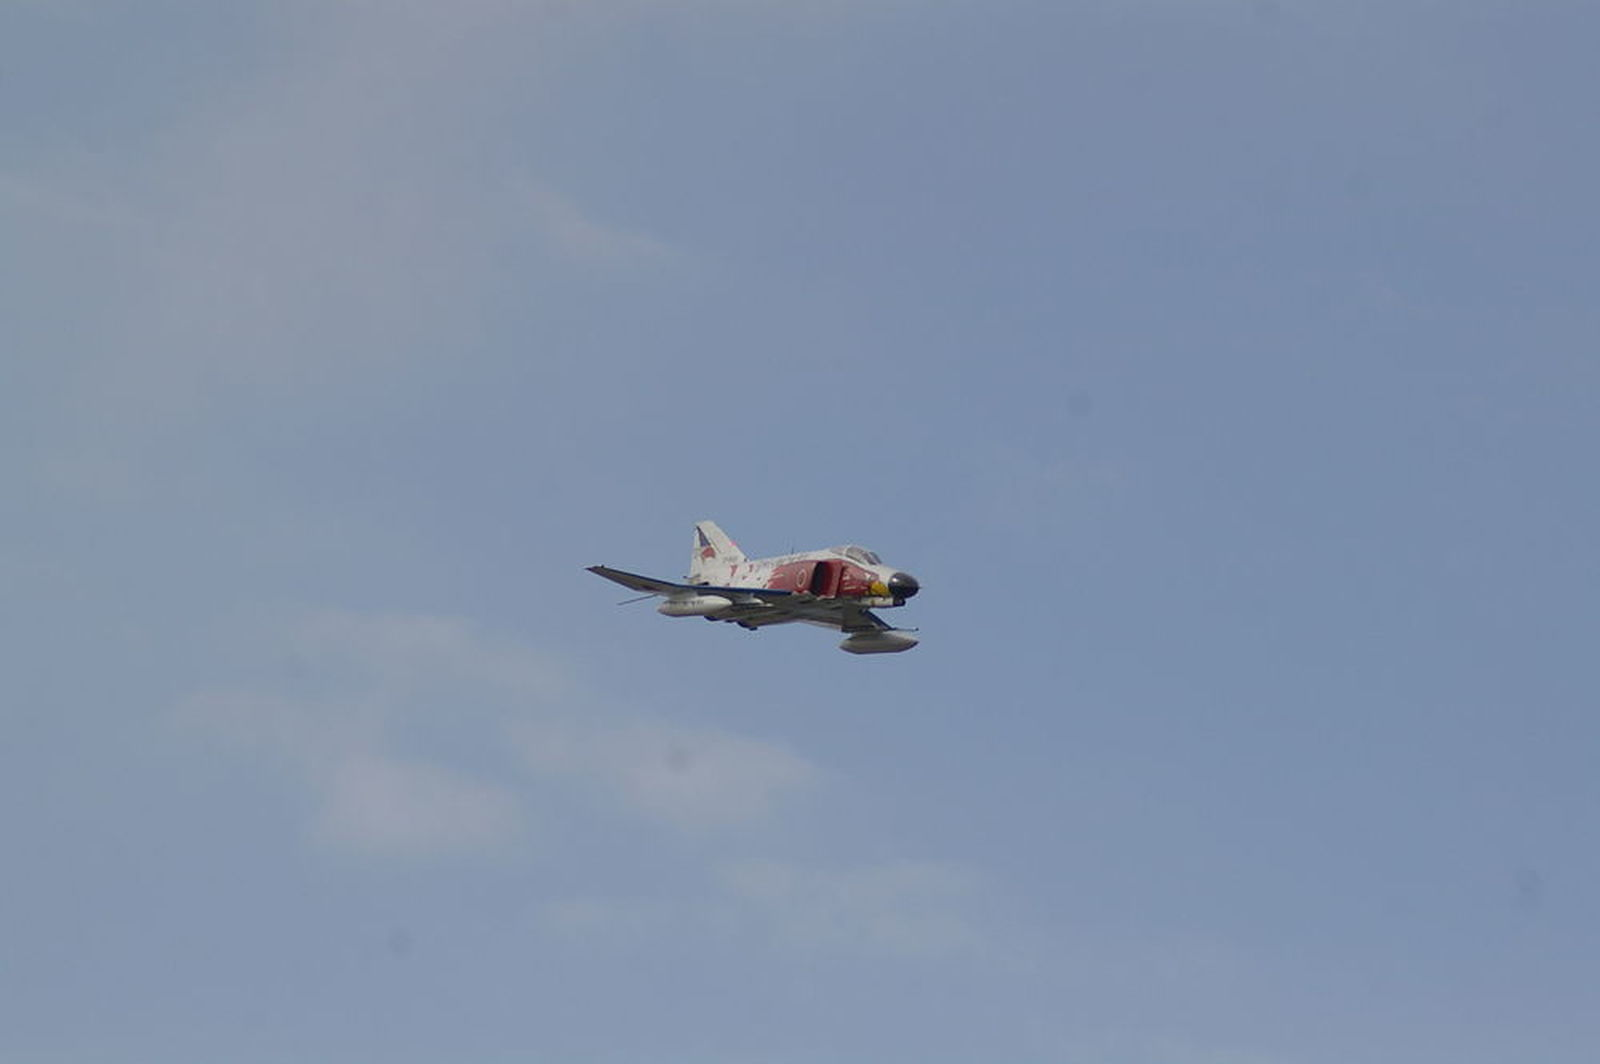F4: (583, 519, 923, 655)
